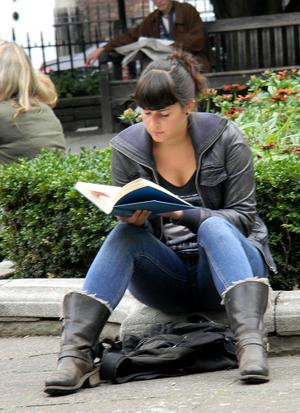person: (45, 63, 271, 397)
